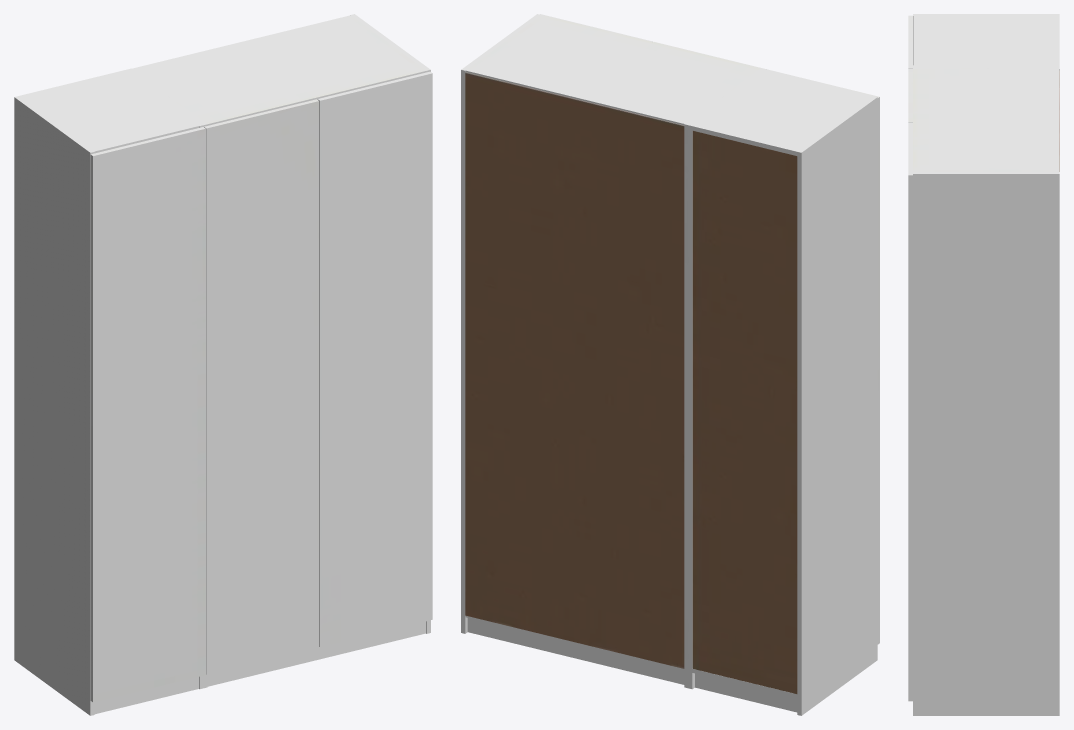
File: 69502768-mini.glb
3 views of the same model, side by side, from view 1: azimuth 30°, elevation 25°; view 2: azimuth 150°, elevation 25°; view 3: azimuth 270°, elevation 25° (orthographic). The views are drawn at different scales.
Parts seen in each view (by area): view 1: 79429715_wardrobe_combination:1.001; view 2: 79429715_wardrobe_combination:1.001; view 3: 79429715_wardrobe_combination:1.001.
Part boxes in pixels (x1,y1,x2,y2): 79429715_wardrobe_combination:1.001: (14, 14, 432, 715); 79429715_wardrobe_combination:1.001: (461, 14, 879, 715); 79429715_wardrobe_combination:1.001: (908, 14, 1059, 715).
Size of the model in its own units: 1.5 by 2.36 by 0.5983.
Materials: 2 (1 with a texture image).
